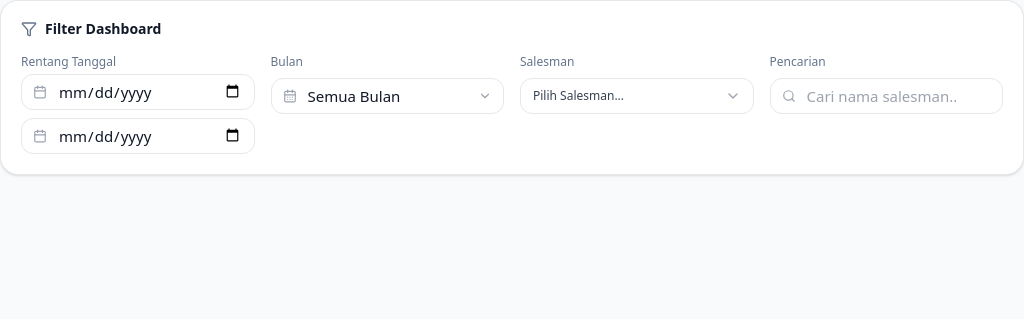
Test: FilterBar › Requirement 6.3 — salesman multi-select dropdown › lists all available salesman in the dropdown
This screenshot has width=1024, height=319.
Click the button "Pilih Salesman...": [637, 96] box [520,78,754,114]
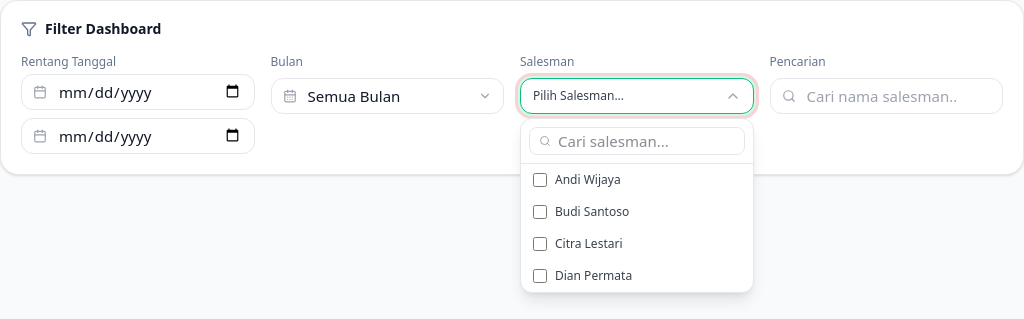
Result: the option "Andi Wijaya" is shown at [533,171,621,188]
Result: the option "Budi Santoso" is shown at [533,203,629,220]
Result: the option "Citra Lestari" is shown at [533,235,622,252]
